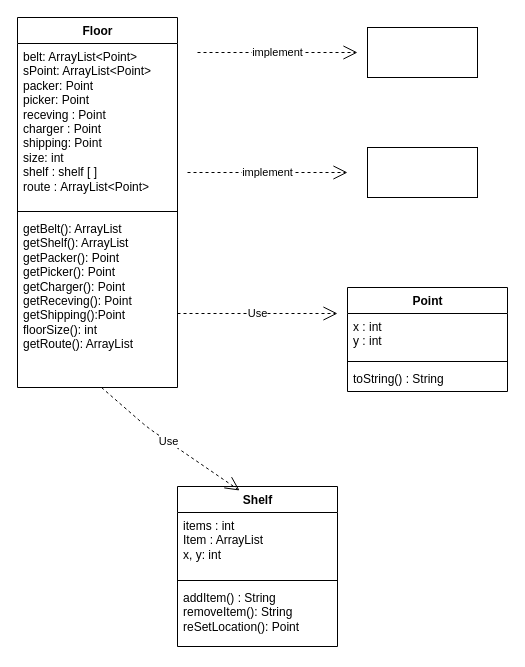
Image size: 525x667. Some labels were removed from this diagram. Each missing label, with the centre of its shape:
"«interface» robotPath" goes at (422,172).
"«interface» viewFloor" goes at (422,52).
